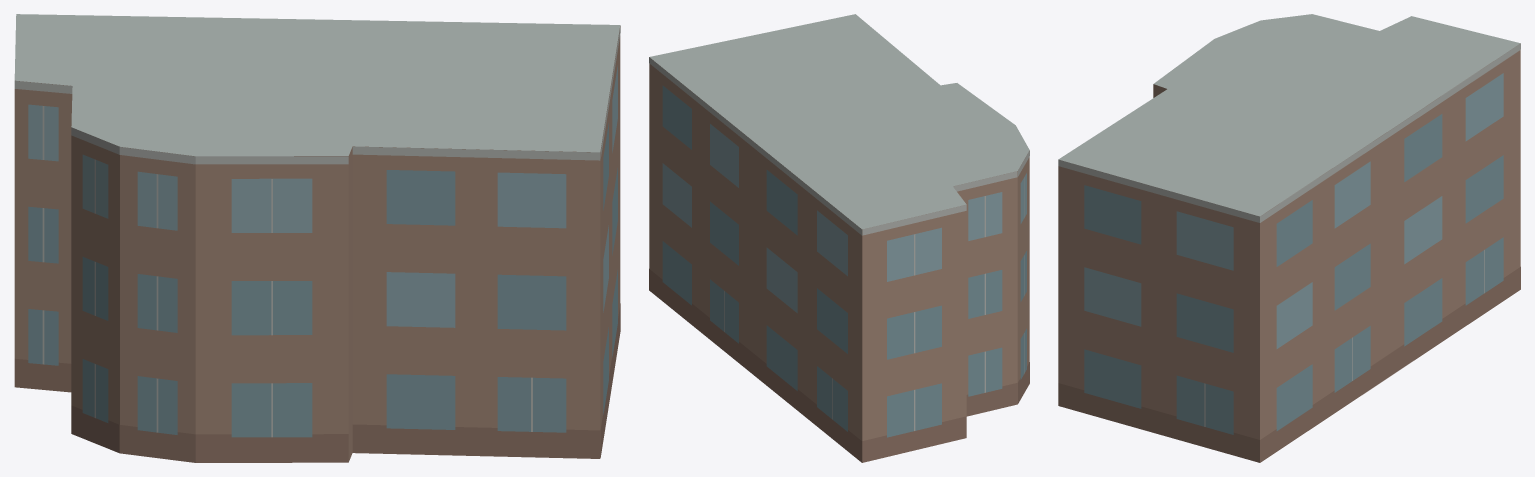
The model's file is survey-upis-32948885.glb.
3 renders of one model, left to right at view 1: azimuth 30°, elevation 25°; view 2: azimuth 150°, elevation 25°; view 3: azimuth 270°, elevation 25°, orthographic. The views are drawn at different scales.
Visible parts, largest first — view 1: survey-upis-32948885.tmp; view 2: survey-upis-32948885.tmp; view 3: survey-upis-32948885.tmp.
Part boxes in pixels (x1,y1,x2,y2): survey-upis-32948885.tmp: (14,14,620,462); survey-upis-32948885.tmp: (649,14,1029,462); survey-upis-32948885.tmp: (1058,14,1520,462).
Bounding box in the file's own units: 16.14 × 9.15 × 15.58.
